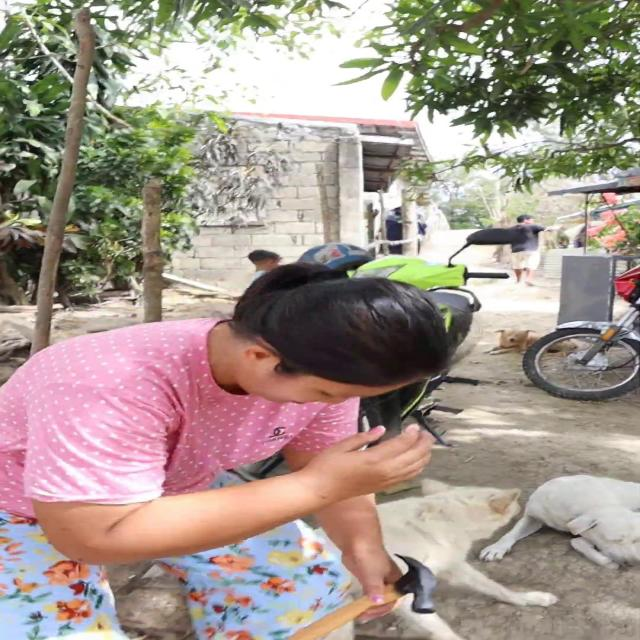hammer: (278, 553, 440, 640)
